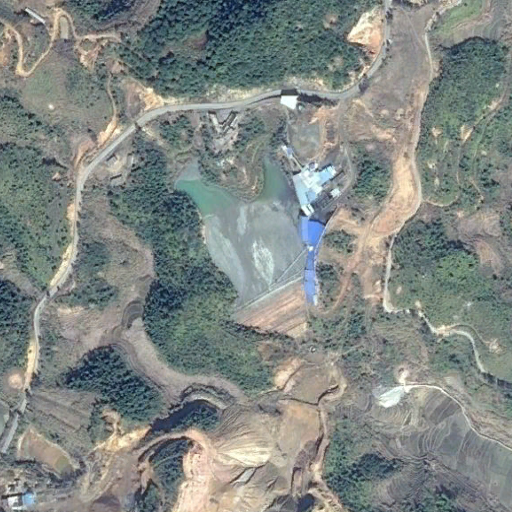tp: (172, 148, 311, 337)
